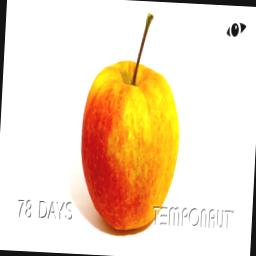Apple Ripe: (76, 0, 188, 234)
